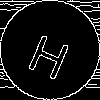H: (25, 25, 76, 81)
